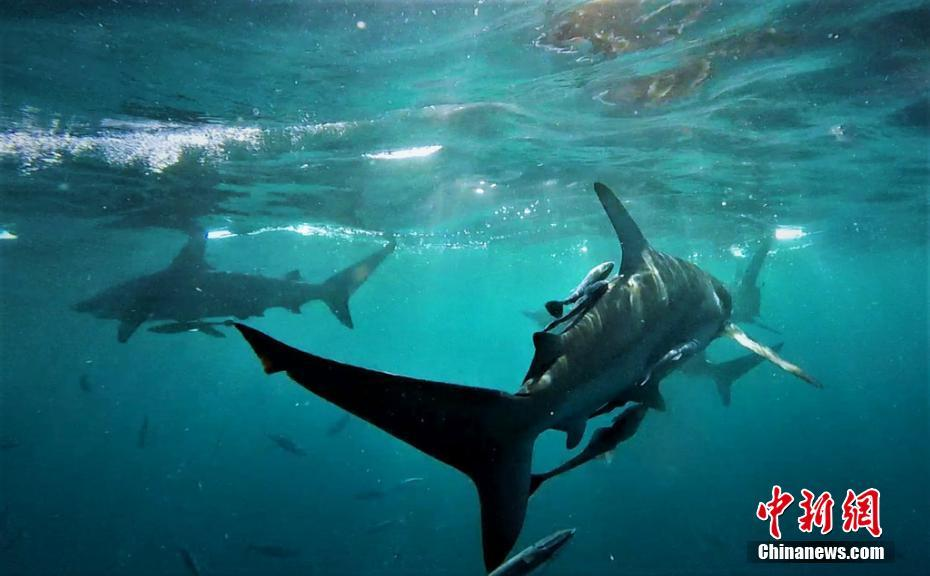shark: (228, 181, 837, 568), (57, 220, 413, 350)
